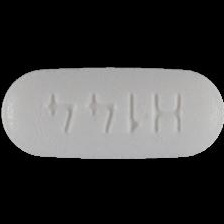70786-0351: (0, 0, 224, 224)
